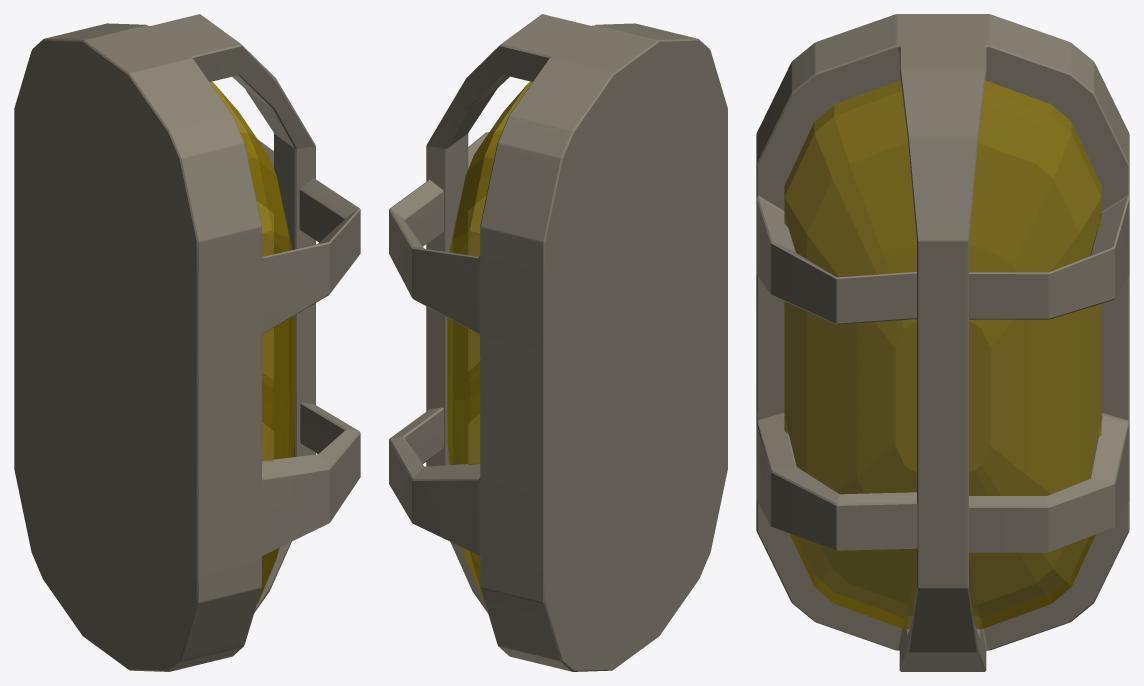
Rendered from wall light.fbx.
3 views of the same model, side by side, from view 1: azimuth 30°, elevation 25°; view 2: azimuth 150°, elevation 25°; view 3: azimuth 270°, elevation 25° (orthographic).
Visible parts, largest first — view 1: cage, light_bubl; view 2: cage, light_bubl; view 3: cage, light_bubl.
Part boxes in pixels (left/top/right/bottom): cage: left=14, top=14, right=360, bottom=671; light_bubl: left=210, top=81, right=294, bottom=603; cage: left=389, top=14, right=727, bottom=671; light_bubl: left=447, top=81, right=532, bottom=604; cage: left=756, top=14, right=1129, bottom=671; light_bubl: left=784, top=80, right=1101, bottom=629.
Bounding box in the file's own units: 19.37 × 54.46 × 30.42.
